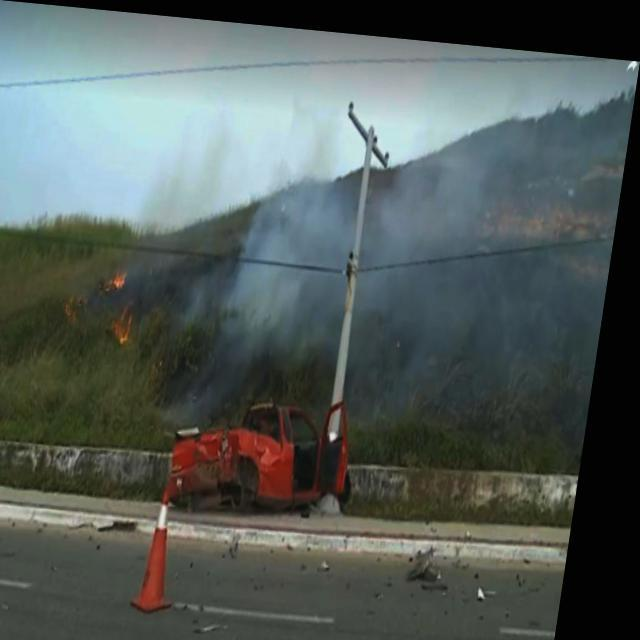Fire: (117, 308, 145, 345), (114, 271, 134, 288)
